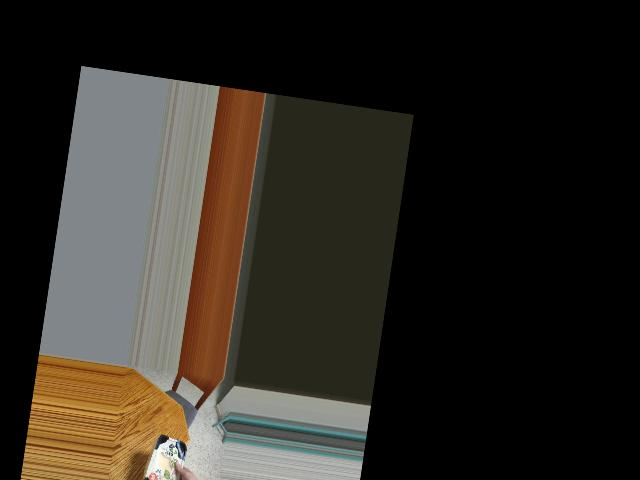cheese: (145, 436, 194, 480)
